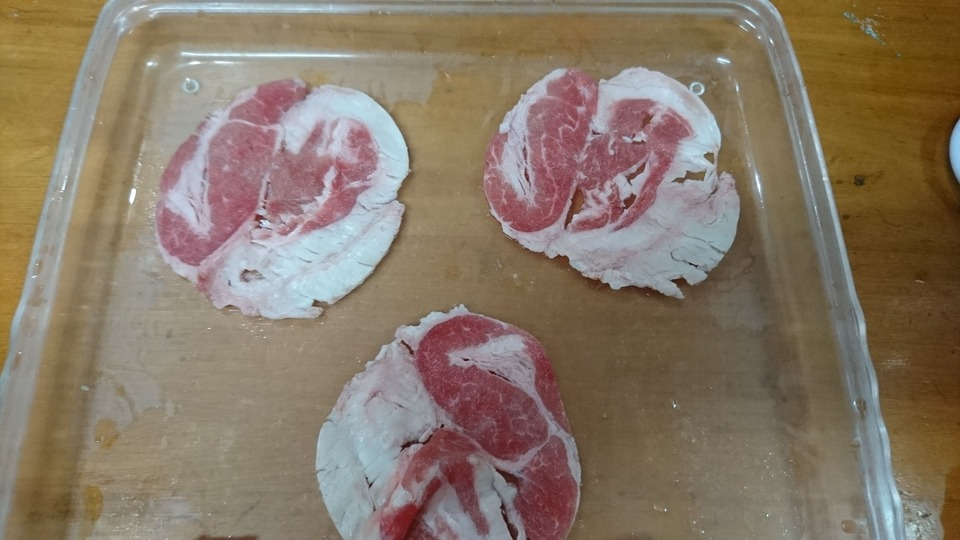restructured meat: (316, 291, 578, 540), (158, 73, 408, 322), (484, 52, 734, 301)
